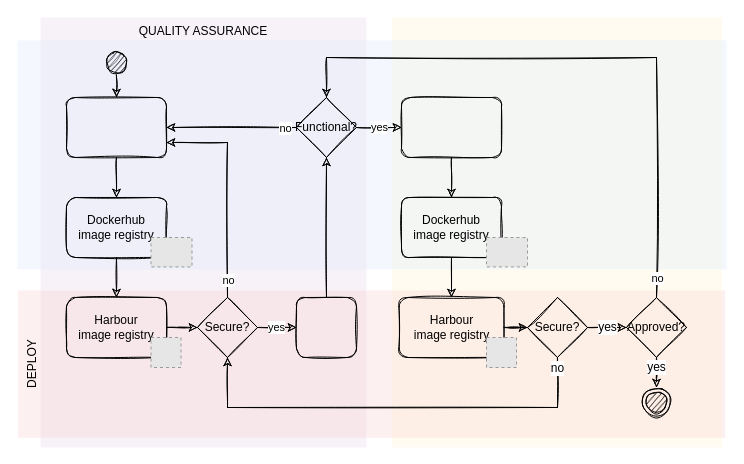
This 744x464 diagram has some shape labels left out. Grey dashed boxes stand in for pictures. Here are the shapes that lost their labels. From the top down, the box of each, then its label:
(66, 96, 166, 158): Change main
(400, 96, 502, 158): Release semver
(17, 40, 726, 269): DEVELOP
(392, 17, 722, 447): PRODUCTION
(296, 296, 356, 358): QA
